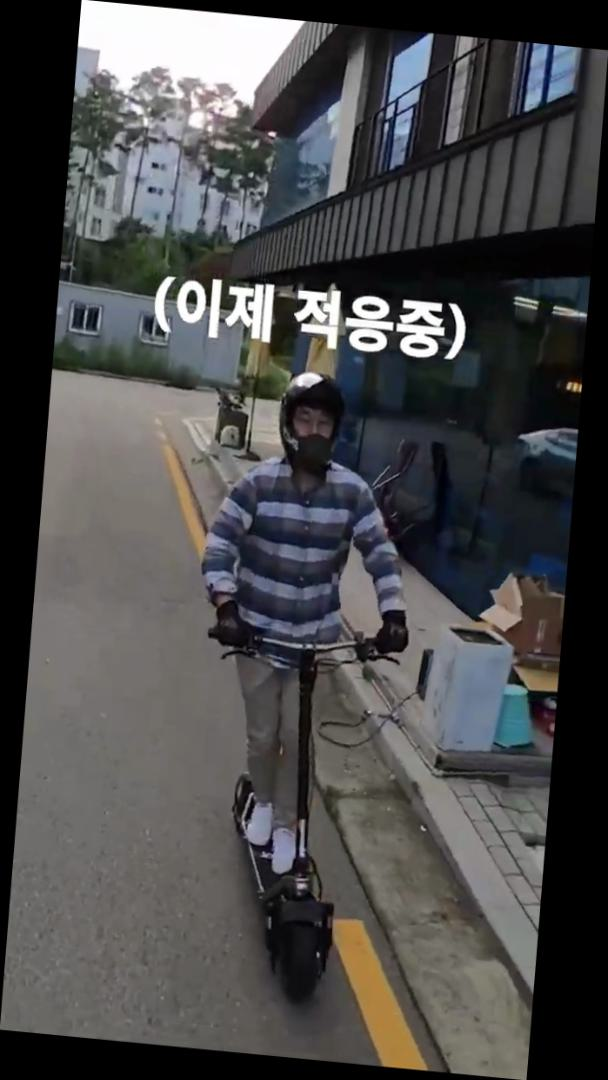helmet: (166, 361, 430, 1012)
